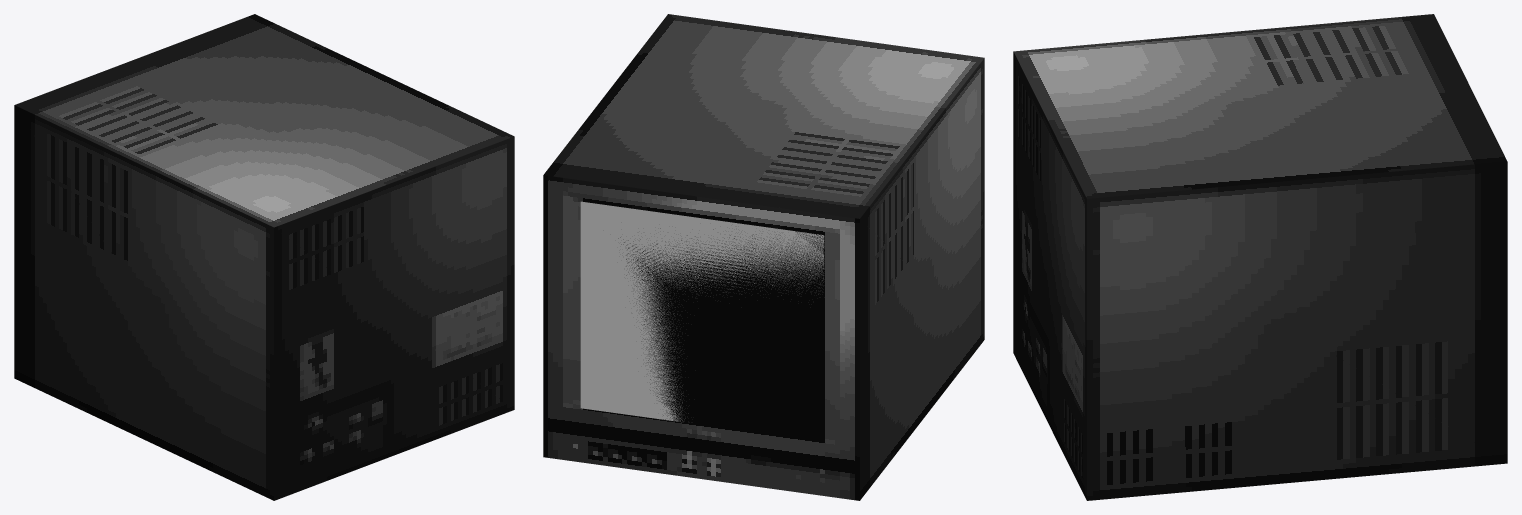
Rendered from primary_071.glb.
3 renders of one model, left to right at view 1: azimuth 30°, elevation 25°; view 2: azimuth 150°, elevation 25°; view 3: azimuth 270°, elevation 25°, orthographic. The views are drawn at different scales.
Parts seen in each view (by area): view 1: Object; view 2: Object; view 3: Object.
Part boxes in pixels (x1=…): Object: x1=14, y1=14, x2=514, y2=500; Object: x1=543, y1=14, x2=984, y2=500; Object: x1=1013, y1=14, x2=1507, y2=500.
Size of the model in its own units: 0.8037 by 0.6122 by 0.9074.
7 materials, 7 textured.
